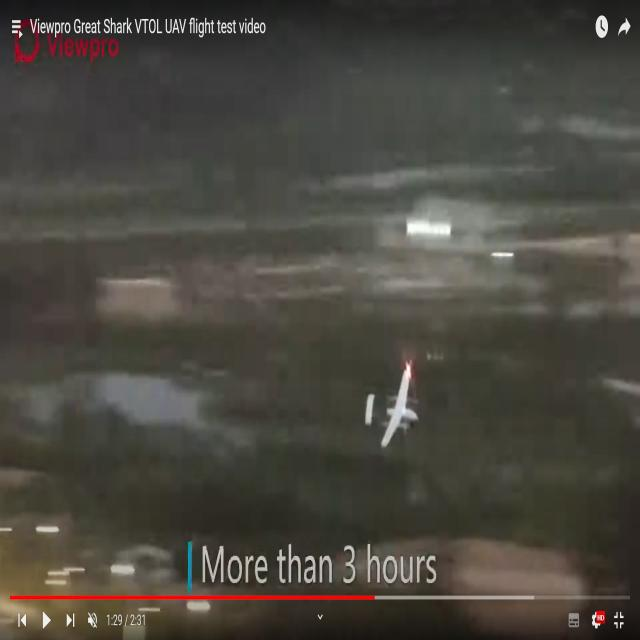iha: (357, 398, 412, 414)
